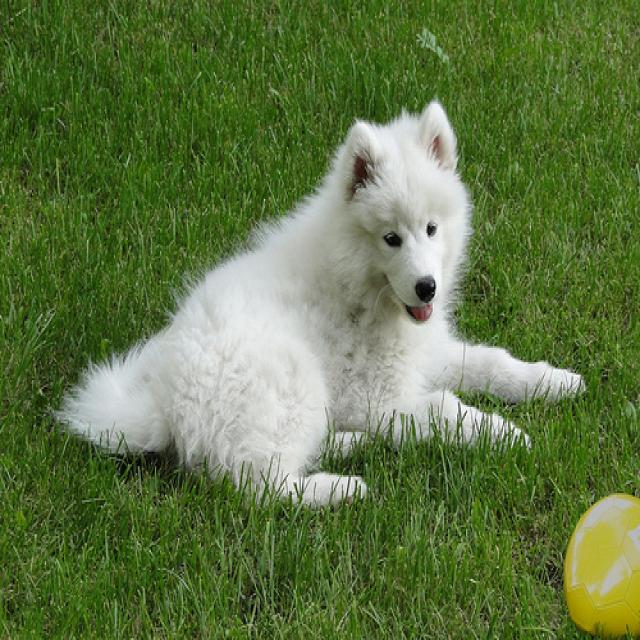dog-samoyed: (51, 91, 600, 518)
